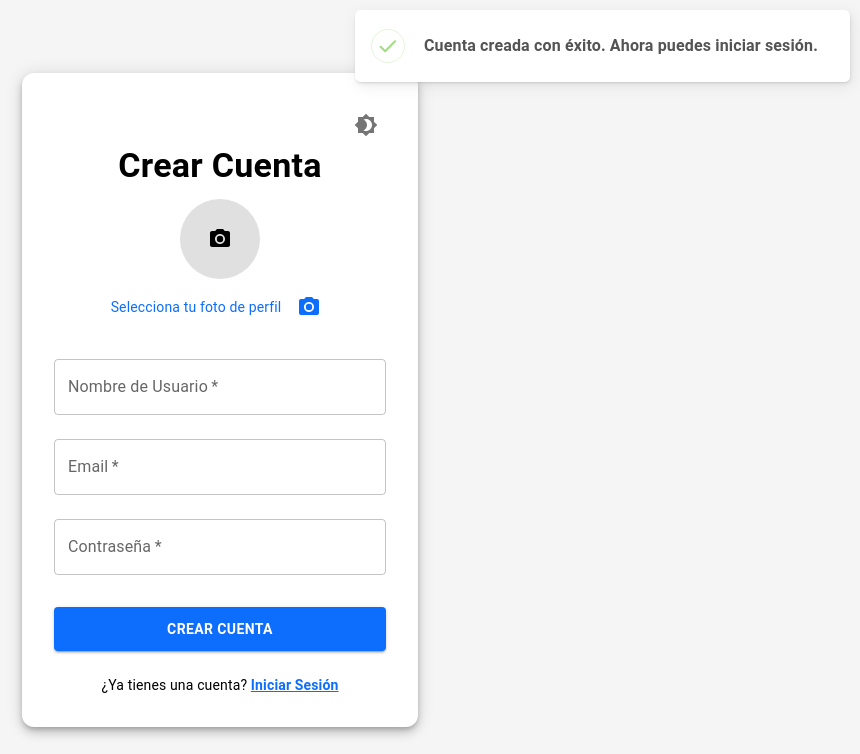
Test: muestra un mensaje de error en caso de fallo en el registro
In the field labelled "Nombre de Usuario *": {"x": 220, "y": 387} [54, 359, 386, 415], type "testuser"
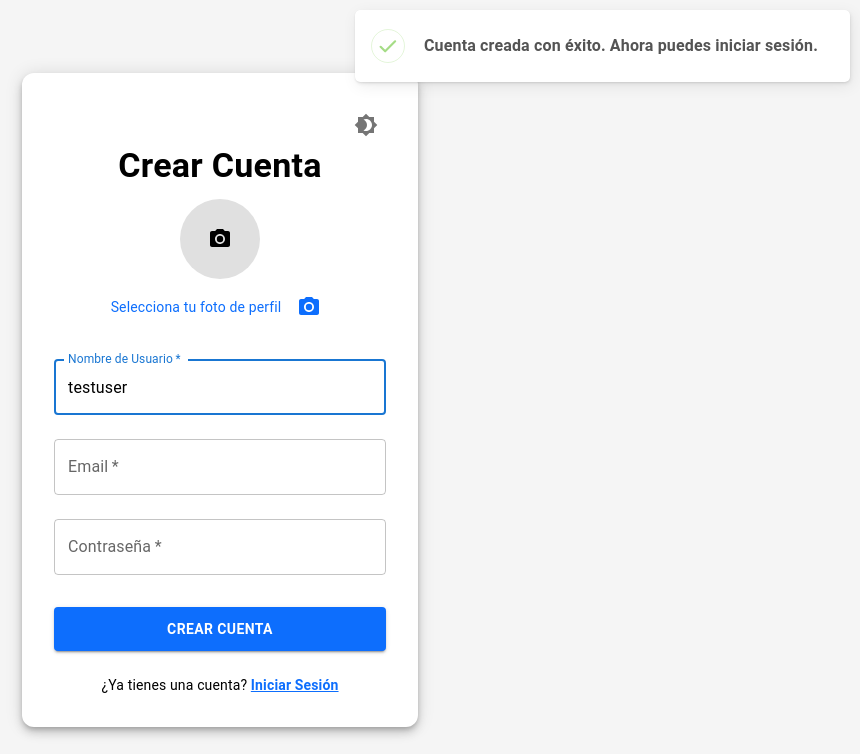
In the field labelled "Email *": {"x": 220, "y": 467} [54, 439, 386, 495], type "test@example.com"
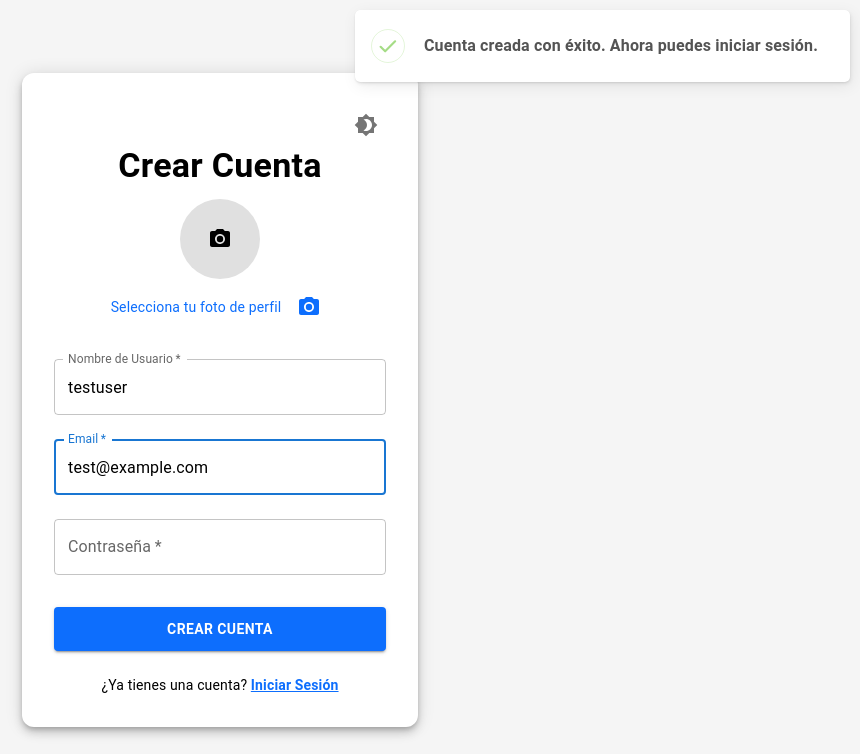
In the password field labelled "Contraseña *": {"x": 220, "y": 547} [54, 519, 386, 575], type "password123"
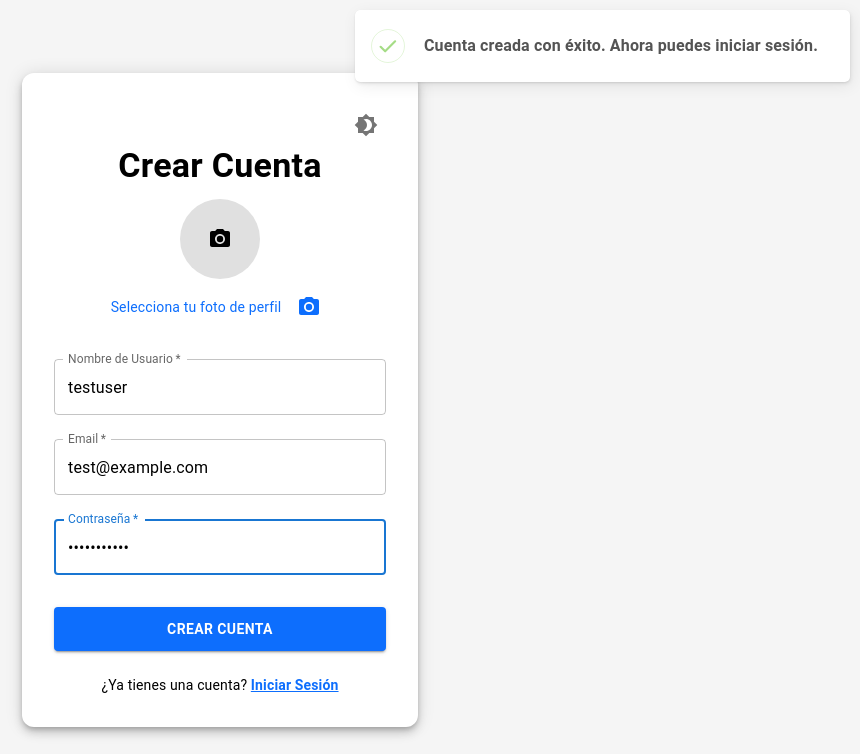
Click the button "Crear Cuenta": {"x": 220, "y": 629} [54, 607, 386, 651]
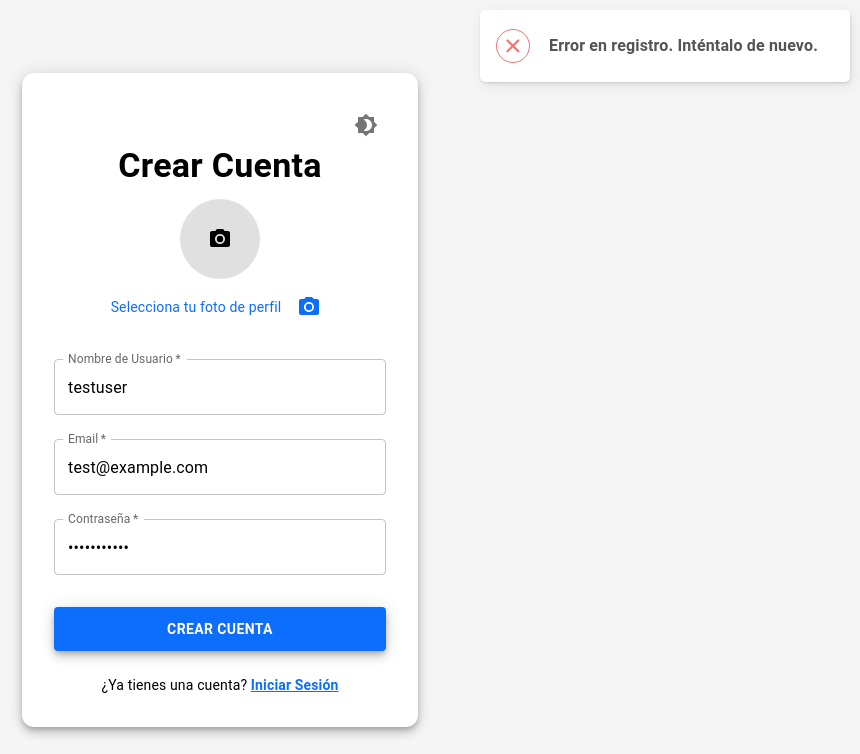
Now the heading "Error en registro. Inténtalo de nuevo." is shown, box [549, 34, 818, 58]
